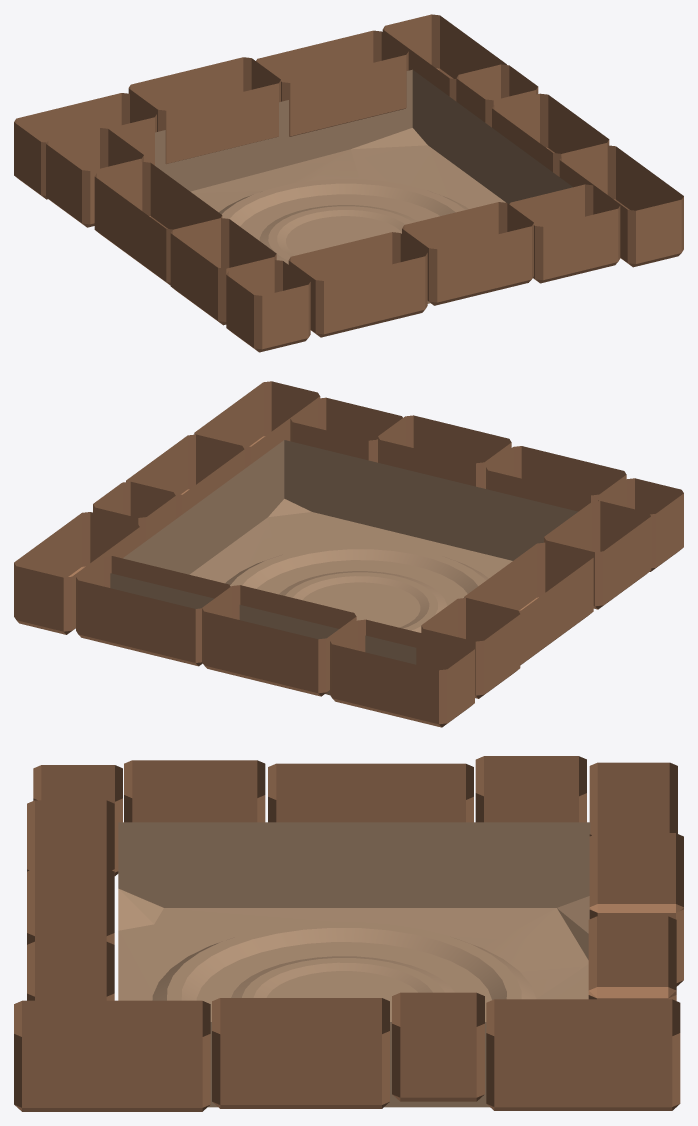
File: Pressure Plate.fbx
3 views of the same model, one above another, from view 1: azimuth 30°, elevation 25°; view 2: azimuth 150°, elevation 25°; view 3: azimuth 270°, elevation 25° (orthographic). The views are drawn at different scales.
Parts seen in each view (by area): view 1: polySurface326, polySurface326_lambert1_0.001; view 2: polySurface326, polySurface326_lambert1_0.001; view 3: polySurface326, polySurface326_lambert1_0.001.
Part boxes in pixels (bbox=[...]): polySurface326: bbox=[14, 14, 683, 352]; polySurface326_lambert1_0.001: bbox=[100, 69, 572, 303]; polySurface326: bbox=[14, 381, 683, 727]; polySurface326_lambert1_0.001: bbox=[110, 440, 600, 695]; polySurface326: bbox=[14, 756, 683, 1111]; polySurface326_lambert1_0.001: bbox=[115, 793, 590, 1107].
Size of the model in its own units: 0.012 by 0.00241 by 0.0122.
